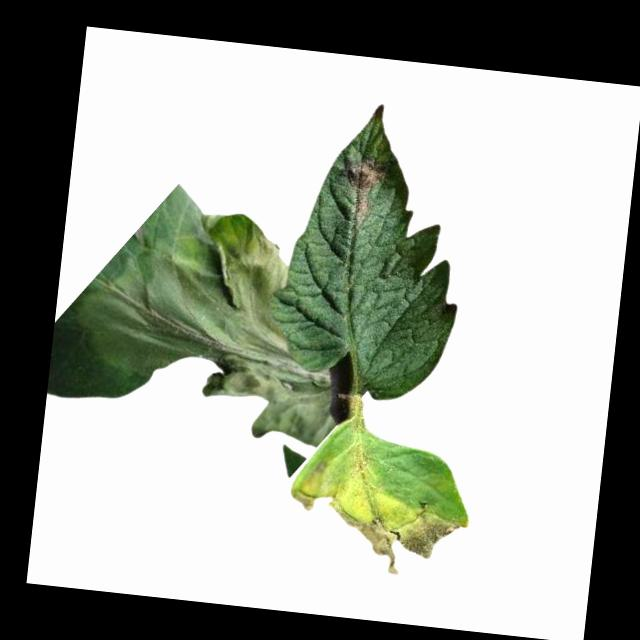Late_blight: (62, 205, 347, 441), (292, 440, 468, 582), (338, 151, 384, 225)
